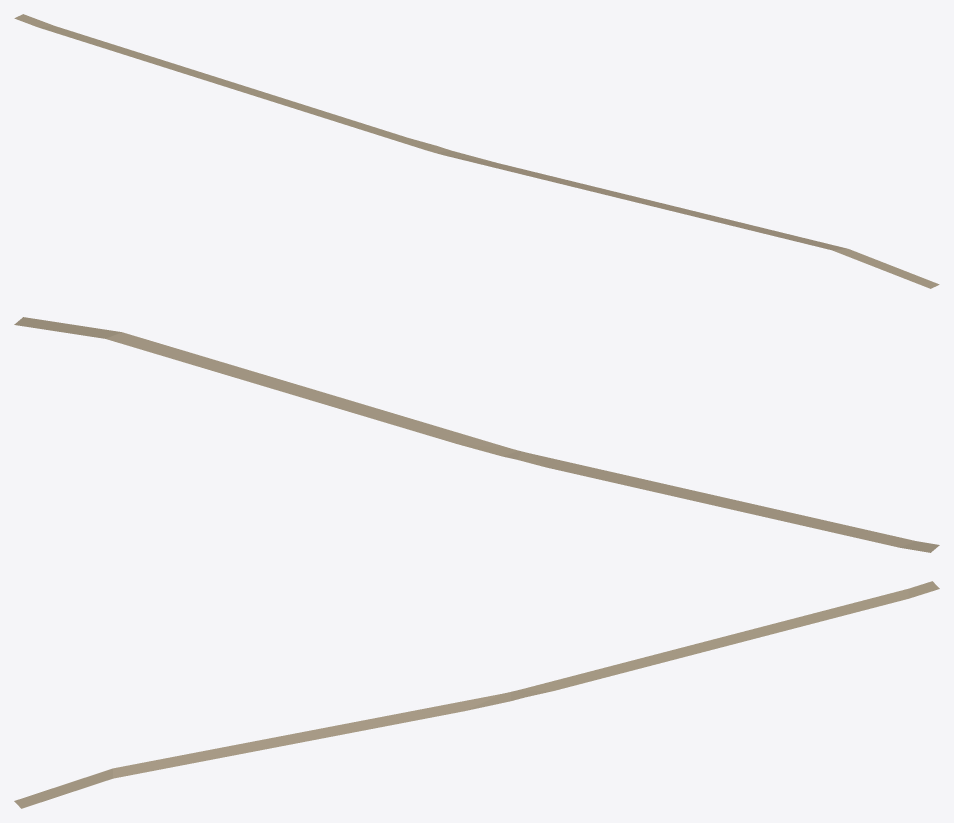
Rendered from farm_-36_-48_track.glb.
3 views of the same model, one above another, from view 1: azimuth 30°, elevation 25°; view 2: azimuth 210°, elevation 25°; view 3: azimuth 270°, elevation 25° (orthographic). The views are drawn at different scales.
Visible parts, largest first — view 1: geometry_0; view 2: geometry_0; view 3: geometry_0.
Boxes of the visible parts, x1,y1,x2,y2 form: geometry_0: (14,14,939,288); geometry_0: (14,317,939,552); geometry_0: (14,581,939,808).
Size of the model in its own units: 98.02 by 4.84 by 186.
